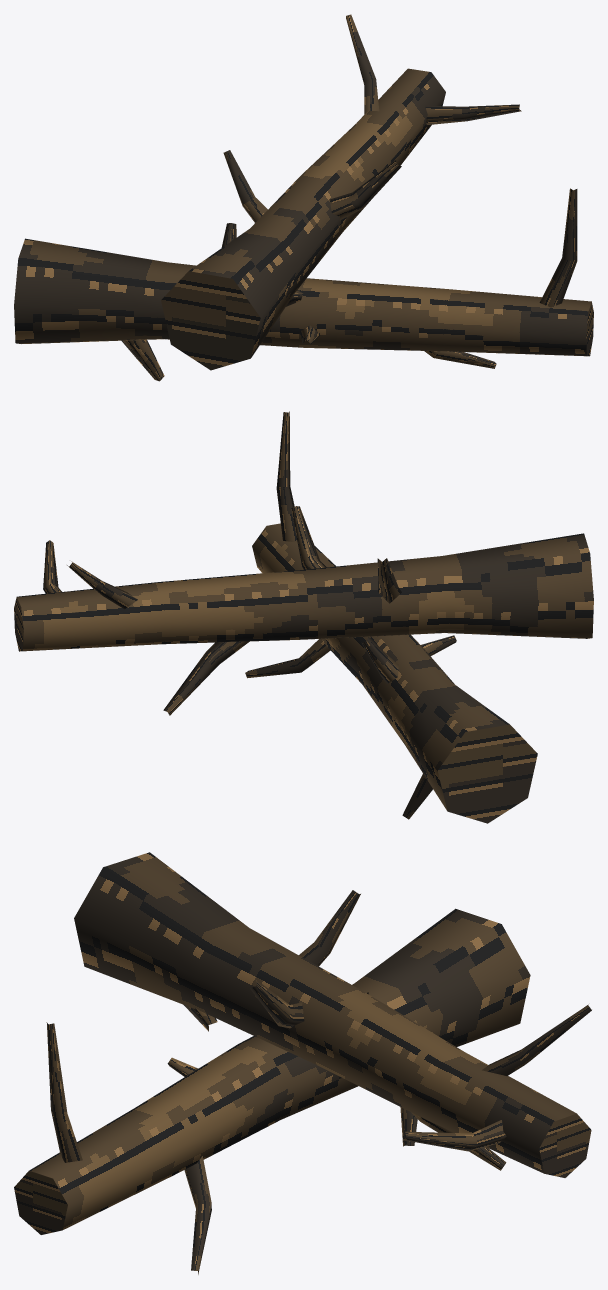
Rendered from logs-213-11.glb.
3 views of the same model, one above another, from view 1: azimuth 30°, elevation 25°; view 2: azimuth 150°, elevation 25°; view 3: azimuth 270°, elevation 25° (orthographic). The views are drawn at different scales.
Bounding box in the file's own units: 1.95 × 0.9232 × 1.61.
Materials: 1 (1 with a texture image).
